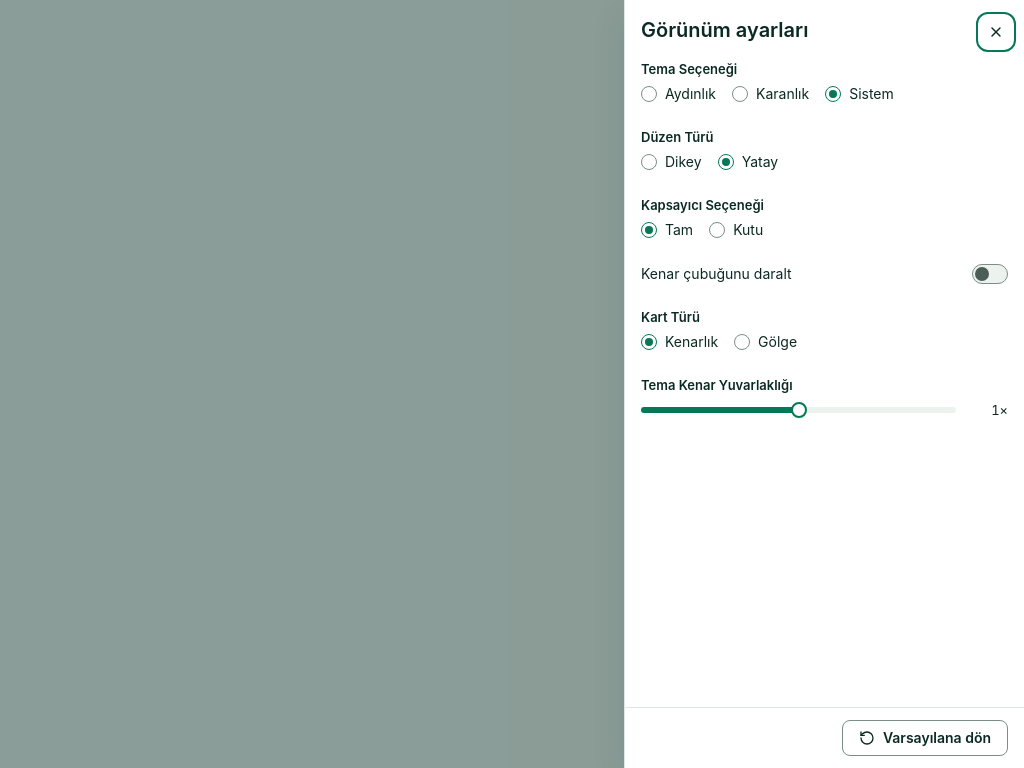
Test case: ThemeCustomizer › reset restores defaults
The width and height of the screenshot is (1024, 768).
Click the button "Varsayılana dön". click: (925, 738)
box: [842,720,1008,756]
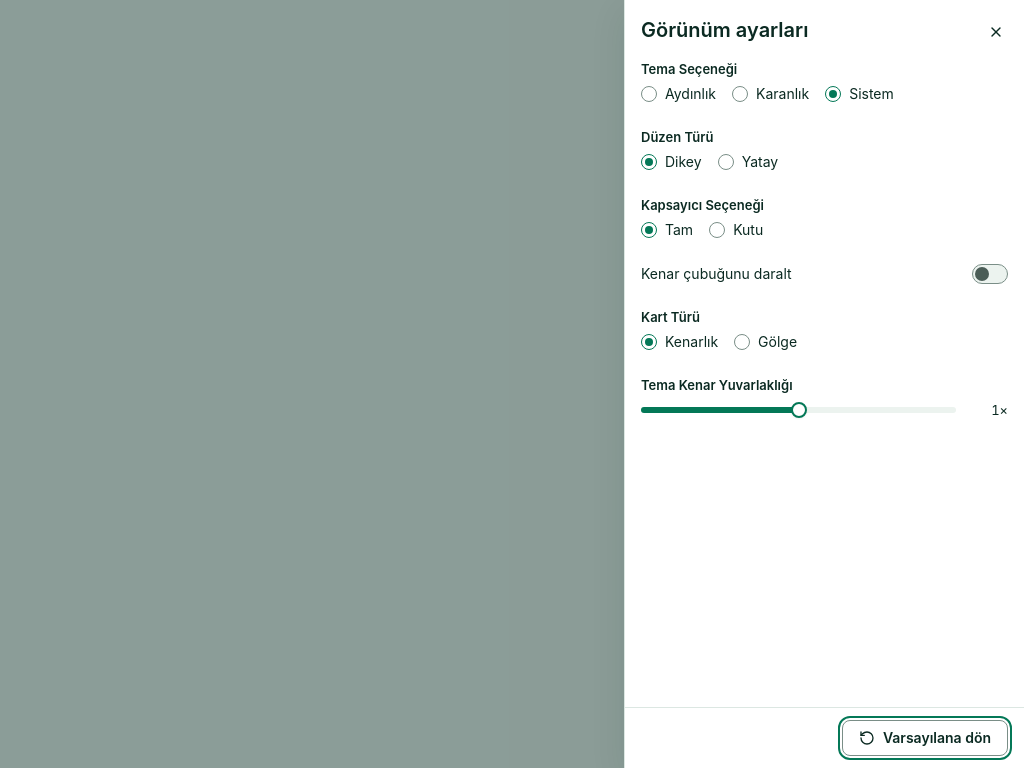
Expected: the radio button named "Dikey" next to "Dikey" is checked, [641,154,657,170]
